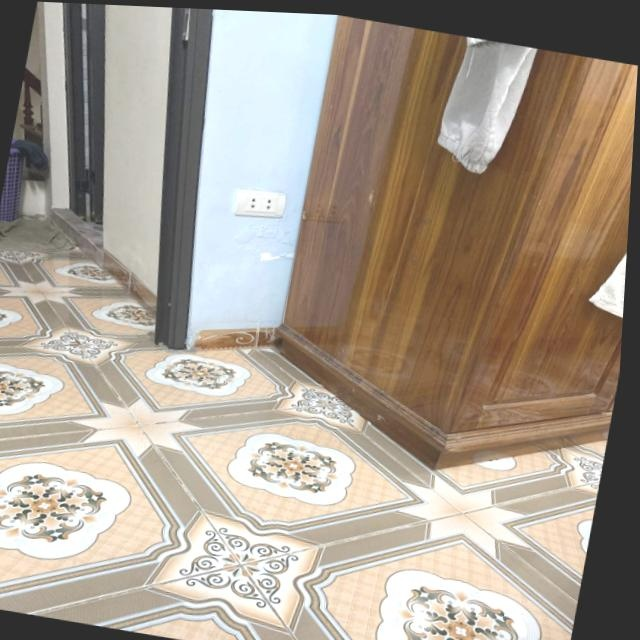outlet: (231, 184, 287, 223)
